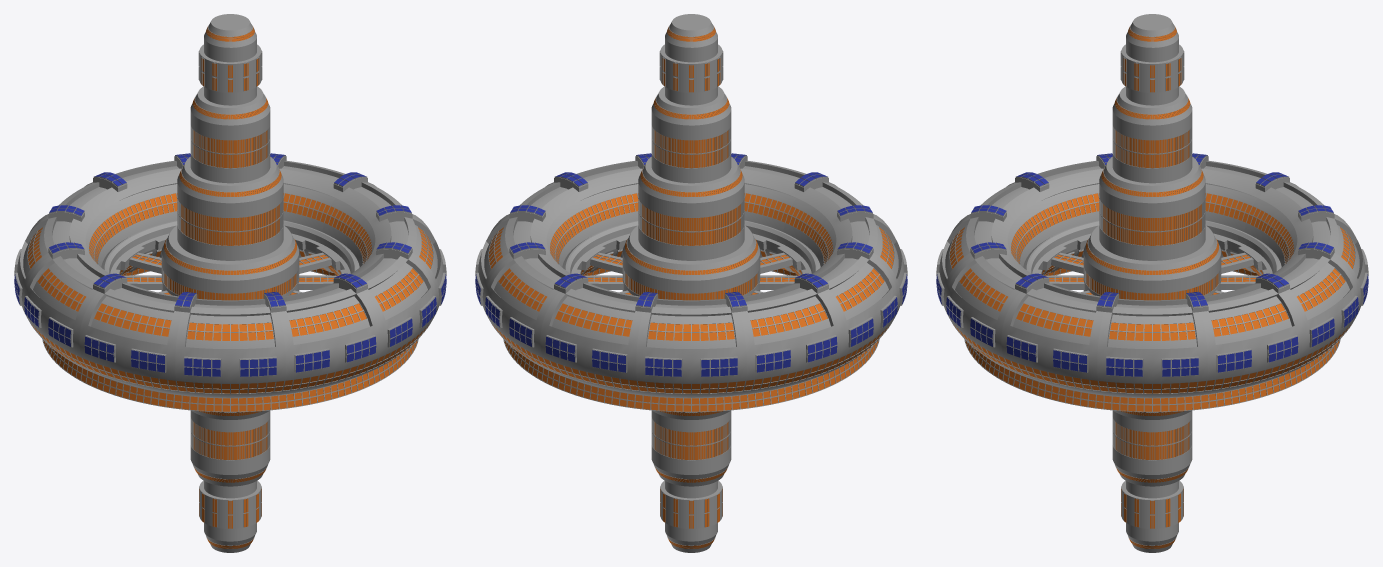
The model's file is Station1.fbx.
3 views of the same model, side by side, from view 1: azimuth 30°, elevation 25°; view 2: azimuth 150°, elevation 25°; view 3: azimuth 270°, elevation 25° (orthographic).
Parts seen in each view (by area): view 1: Station 1; view 2: Station 1; view 3: Station 1.
Part boxes in pixels (x1,y1,x2,y2): Station 1: (14, 14, 446, 552); Station 1: (475, 14, 907, 552); Station 1: (936, 14, 1368, 552).
Bounding box in the file's own units: 30000 × 40000 × 30000.
